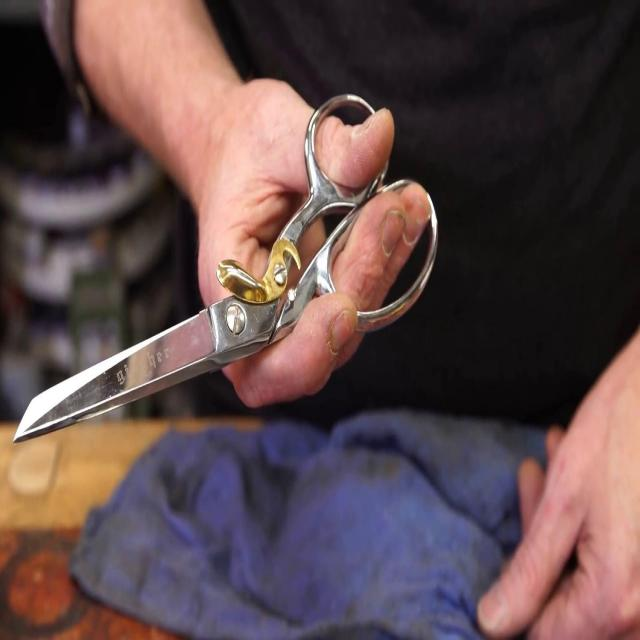scissor: (14, 89, 439, 442)
